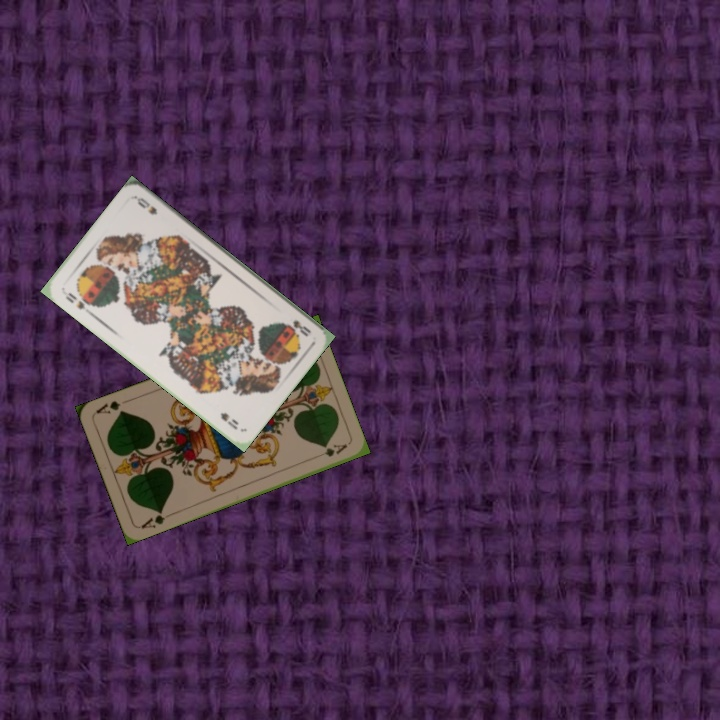GA: (137, 506, 175, 531)
SO: (283, 316, 314, 339), (61, 288, 88, 312)
